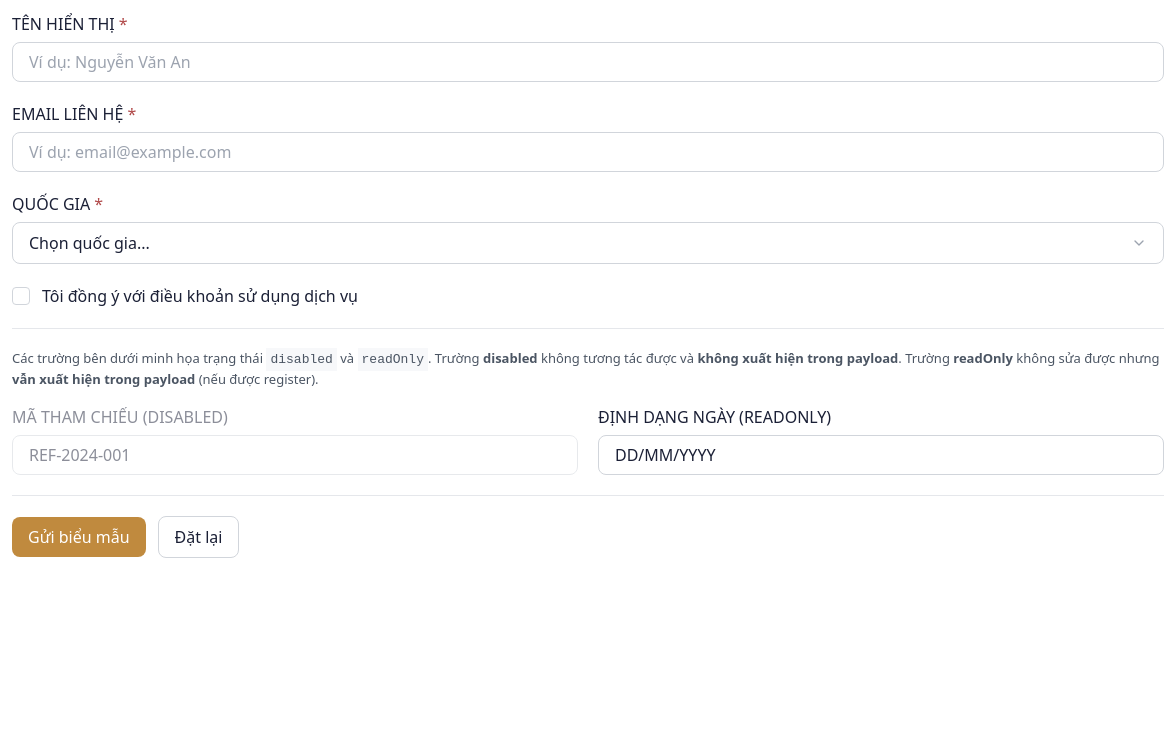
FormFoundationDemo › §9.8 agreeToTerms Checkbox — shows manual error via role=alert when not checked on submit
# Điền các field hợp lệ khác trước, chỉ bỏ checkbox
In the field labelled "Tên hiển thị *": (588,62) [13, 43, 1163, 81], type "Nguyễn An"
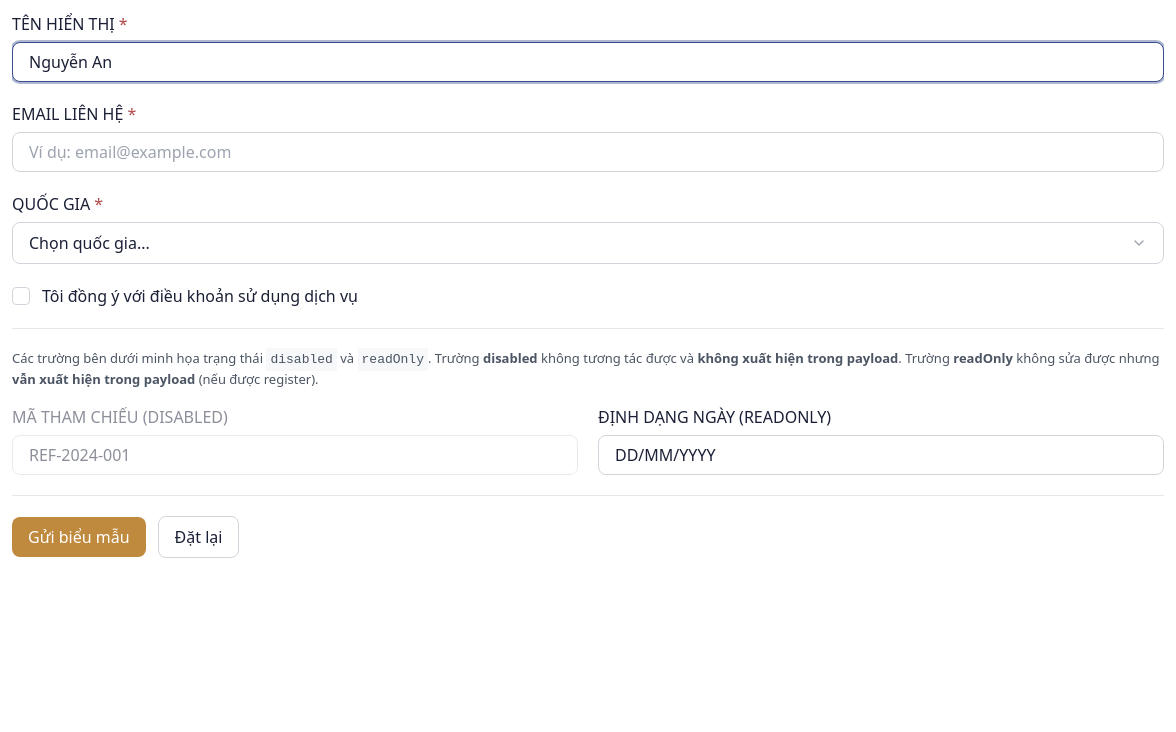
In the field labelled "Email liên hệ *": (588,152) [13, 133, 1163, 171], type "test@example.com"
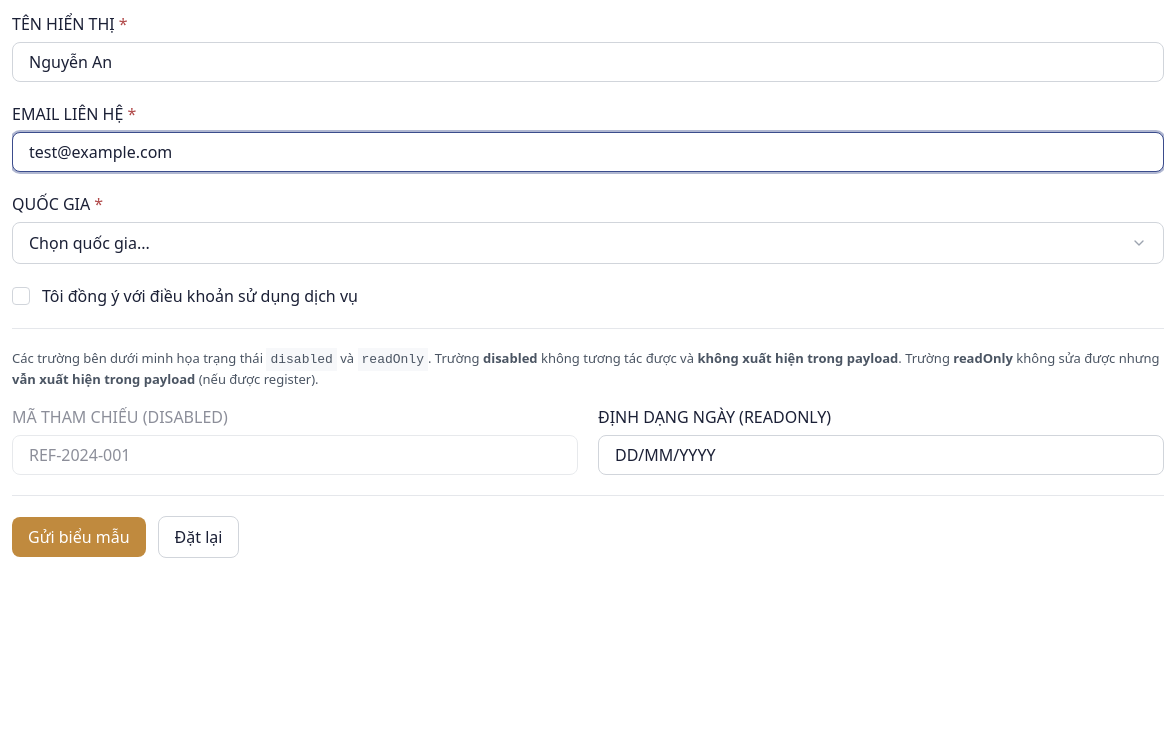
Select "Việt Nam" in the dropdown with test id "native-select": (58,204) [12, 193, 103, 215]
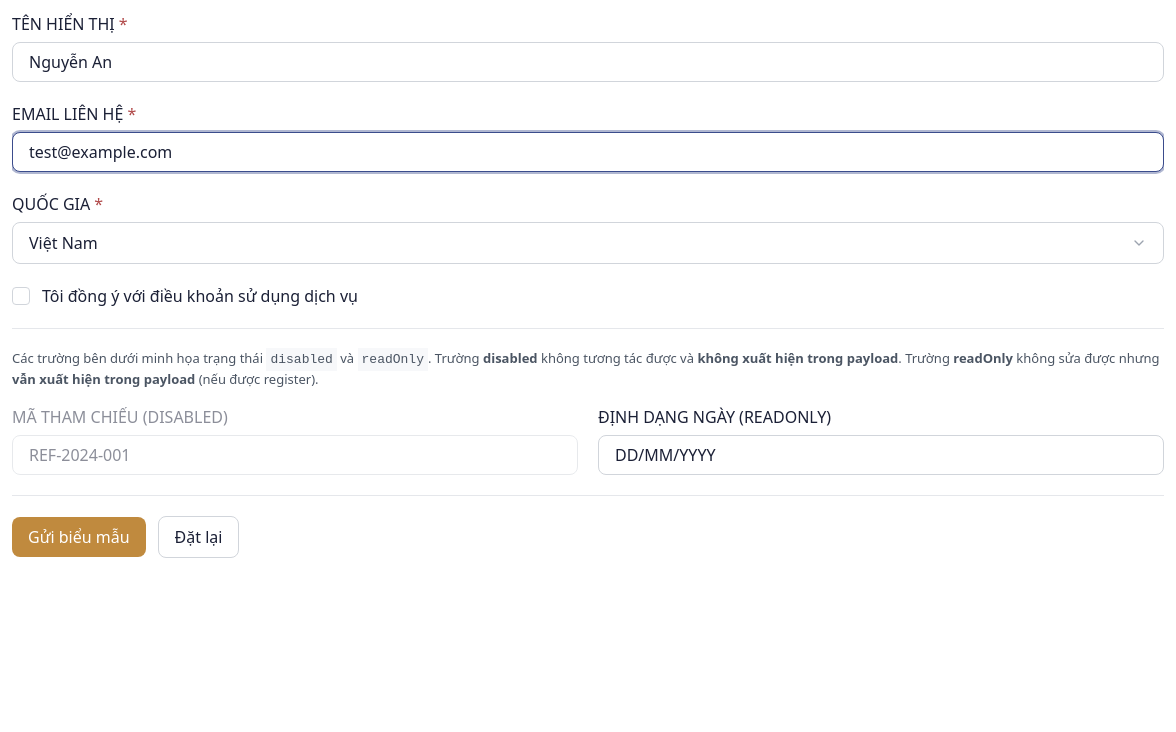
Click the button "Gửi biểu mẫu": (79,537) [12, 517, 146, 557]
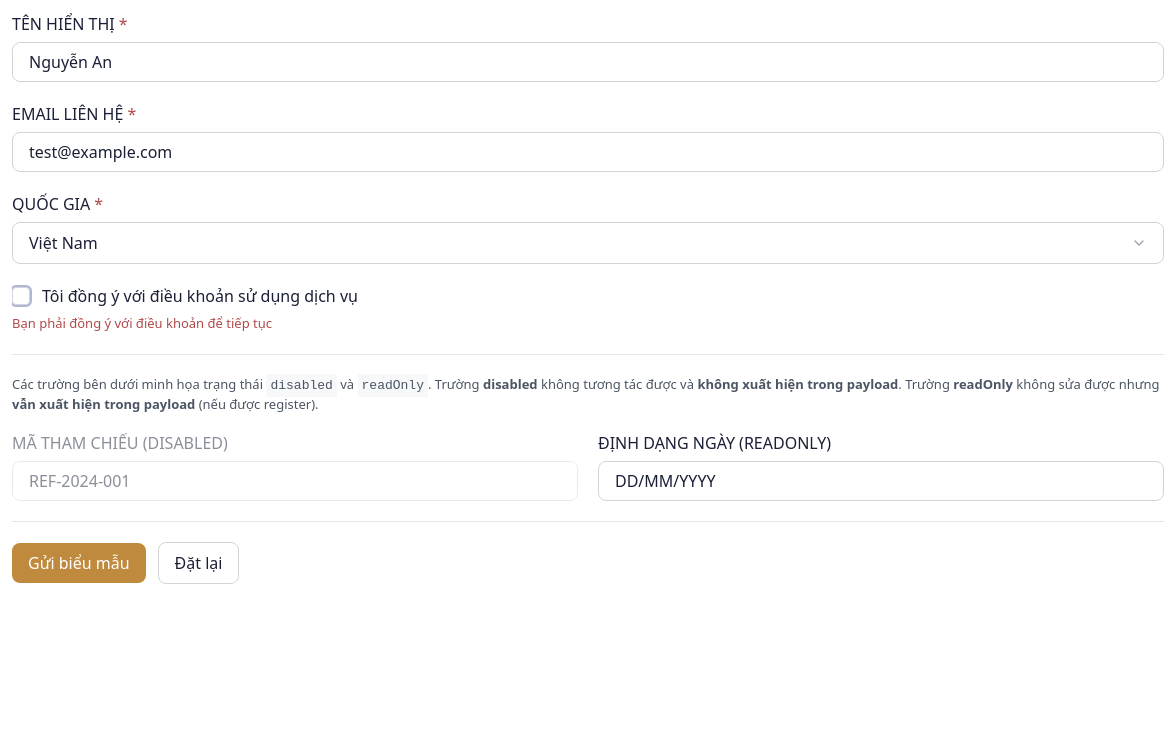
expect the message shows "phải đồng ý với điều khoản": met, box [12, 314, 272, 332]
